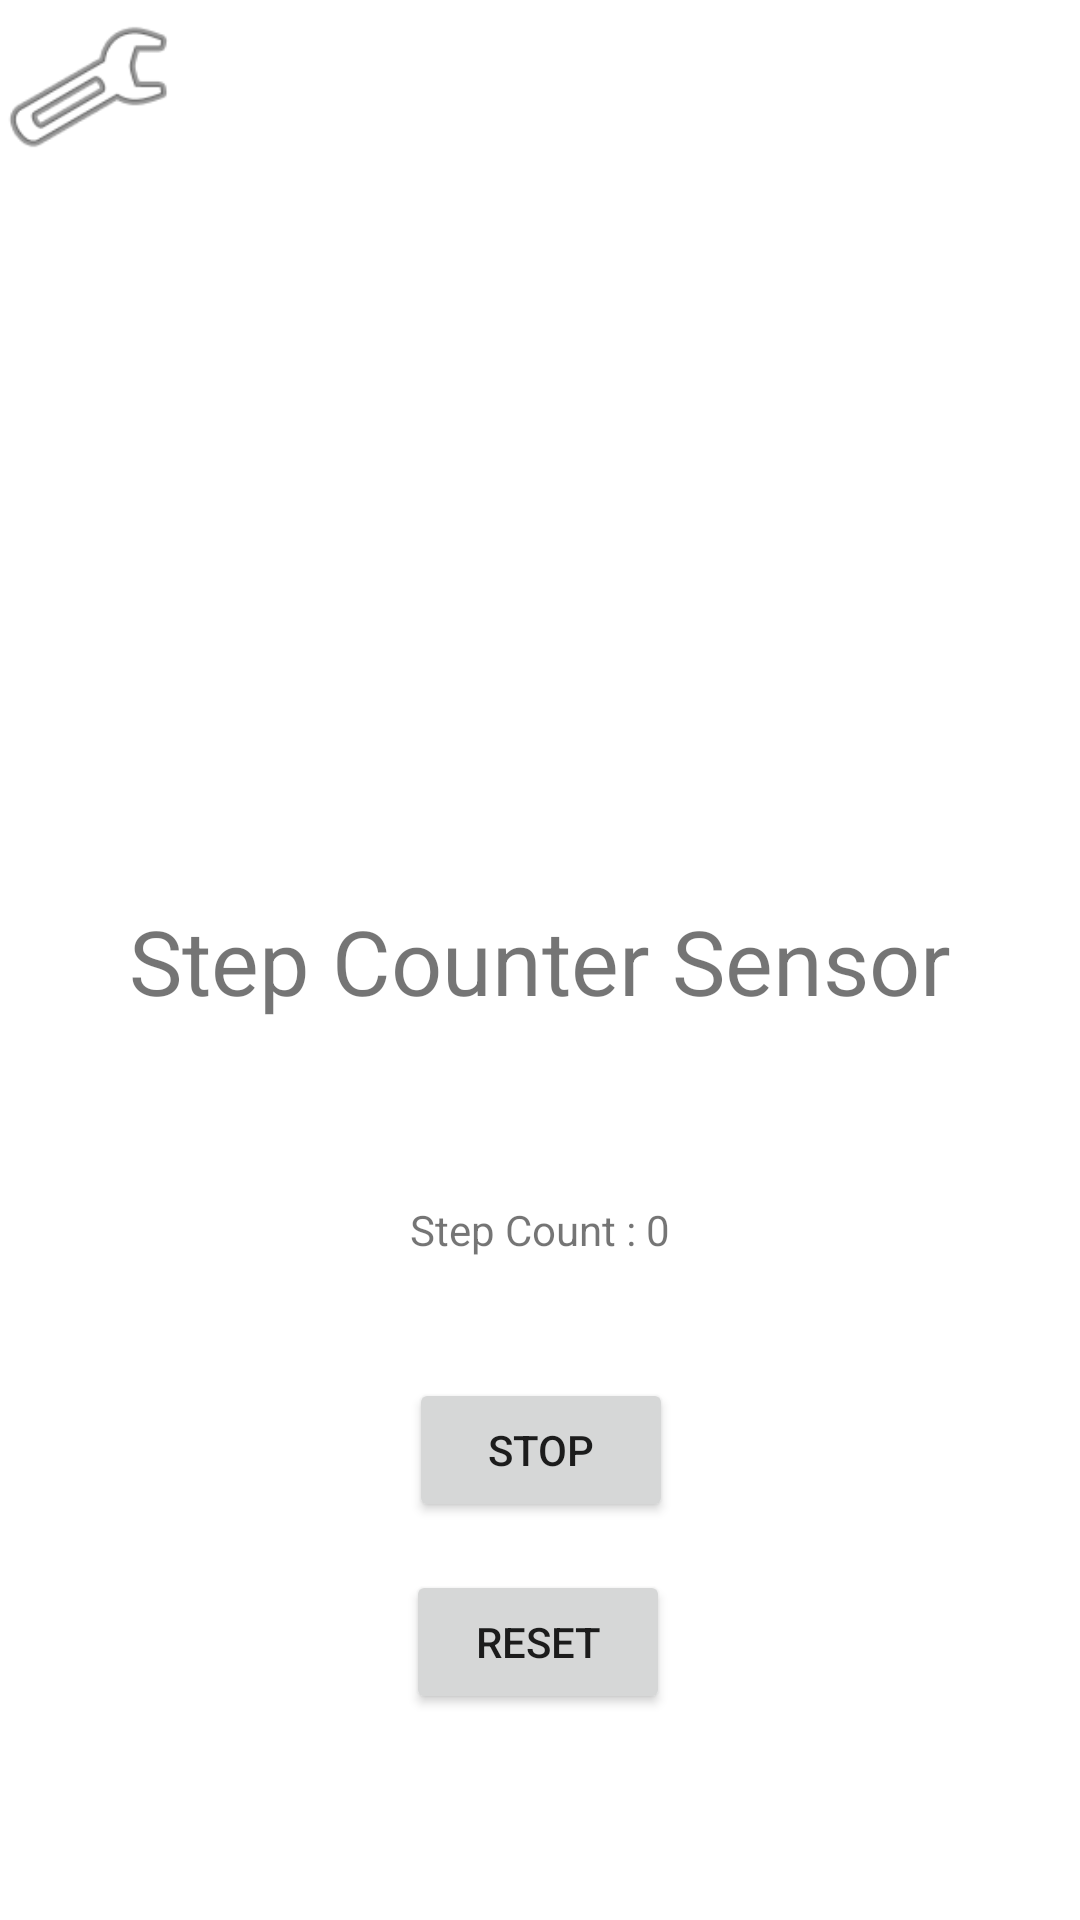

Where to tap for icons on this 1080x1920 app screen, as (x,y):
preferences: (88,87)
